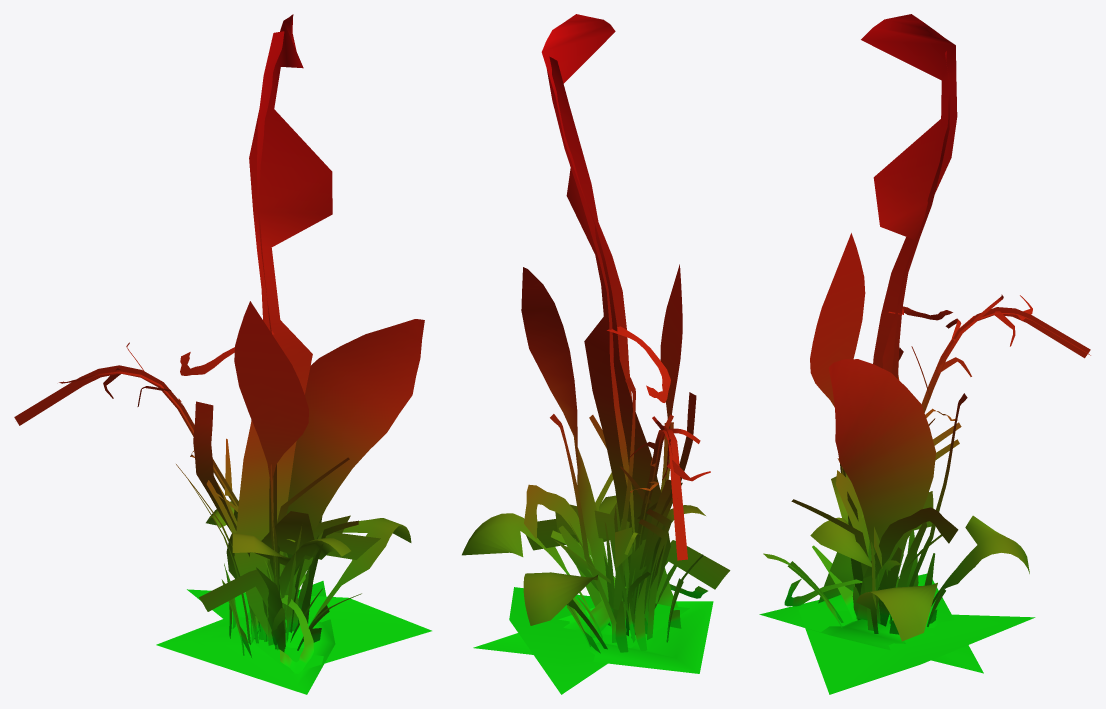
File: tbbqejqr_Var2_LOD0.fbx
The picture shows the model from 3 angles, left to right: view 1: azimuth 30°, elevation 25°; view 2: azimuth 150°, elevation 25°; view 3: azimuth 270°, elevation 25°; orthographic projection. The views are drawn at different scales.
Parts seen in each view (by area): view 1: _917d_Var2_LOD0; view 2: _917d_Var2_LOD0; view 3: _917d_Var2_LOD0.
Boxes of the visible parts, x1,y1,x2,y2 form: _917d_Var2_LOD0: (14,14,431,694); _917d_Var2_LOD0: (462,14,730,694); _917d_Var2_LOD0: (759,14,1090,694).
Size of the model in its own units: 15.36 by 29.91 by 13.96.
